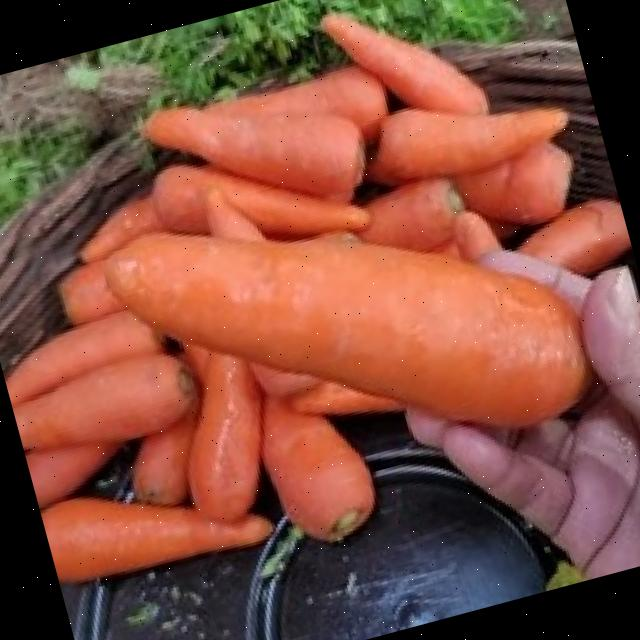carrot: (4, 12, 624, 576), (102, 231, 581, 421)
